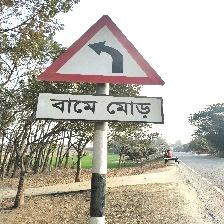Left-Turn: (34, 14, 167, 127)
